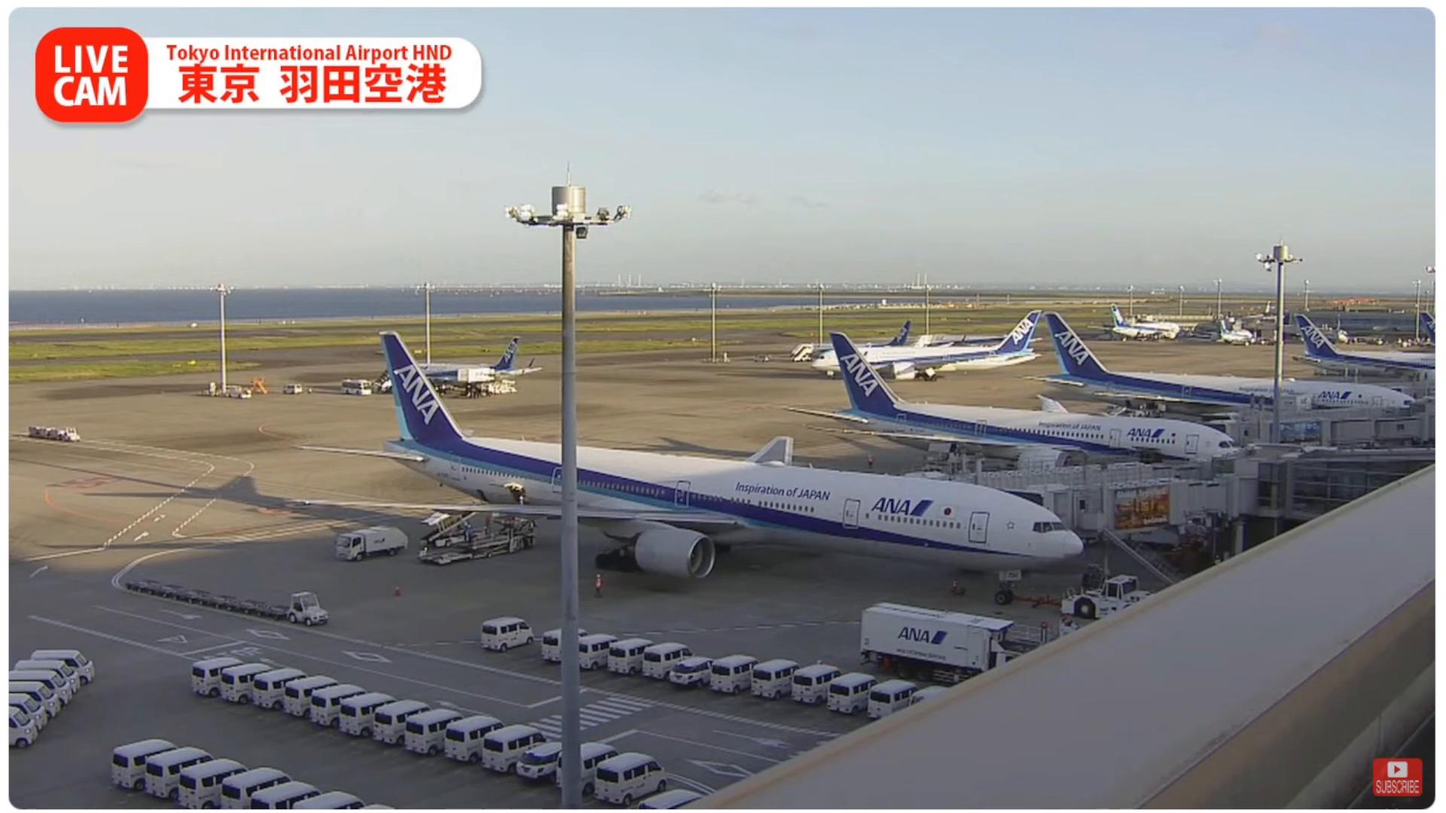APS: (1053, 575, 1147, 619)
Aerobridge: (990, 474, 1217, 523), (903, 458, 1204, 486)
Airplane: (290, 334, 1076, 584)
Baggage truck: (329, 525, 417, 559)
Catering: (857, 603, 1064, 675)
Dolly: (126, 577, 288, 622)
JCPL: (415, 509, 534, 566)
Skyloader: (424, 510, 487, 546)
Tractor: (288, 588, 331, 625)
Window: (1253, 443, 1435, 520)
